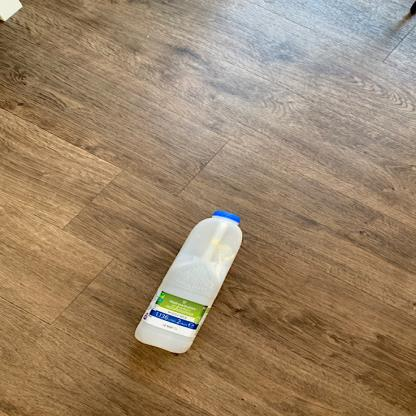trash: (133, 210, 244, 358)
